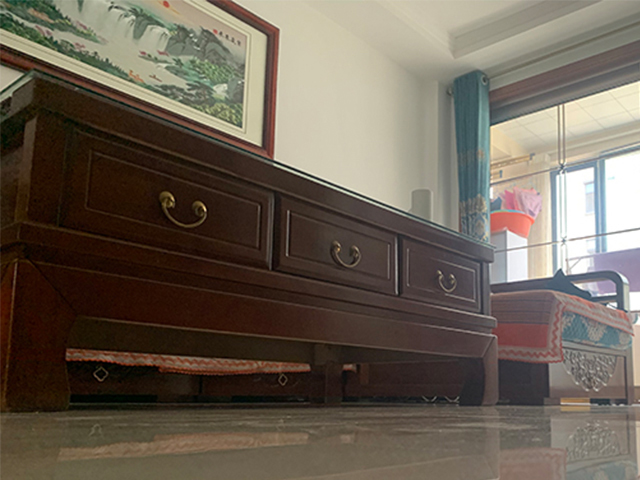book: (543, 396, 591, 407)
sofa: (488, 268, 635, 407)
table: (1, 67, 497, 414)
